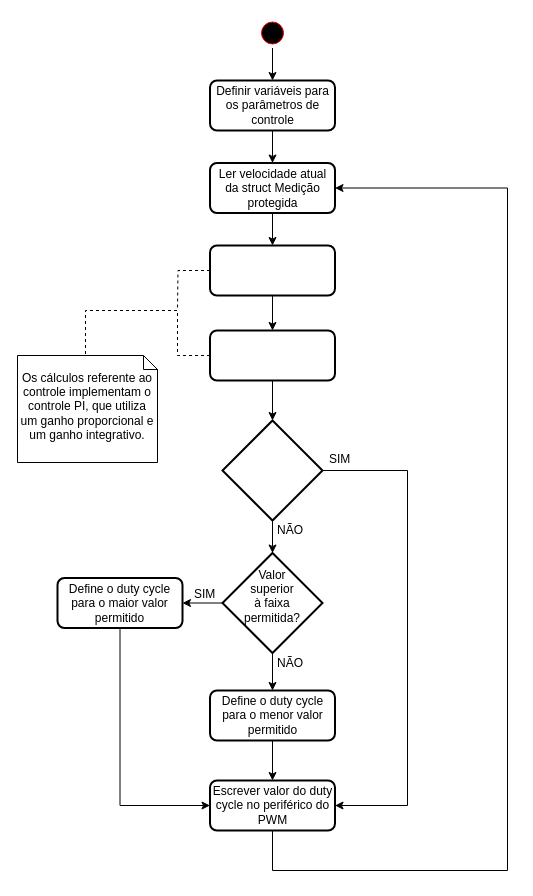
The diagram is 533 pixels wide and 896 high, and some of its shapes have lost their labels. Here are the shapes that lost their labels. From the top down, the centre of each, then its label:
At pixel 272 270: "Calcular ganhos proporcional e integrativo".
At pixel 272 355: "Calcular novo valor de Duty cycle".
At pixel 272 470: "Duty cycle dentro da faixa esperada?".
